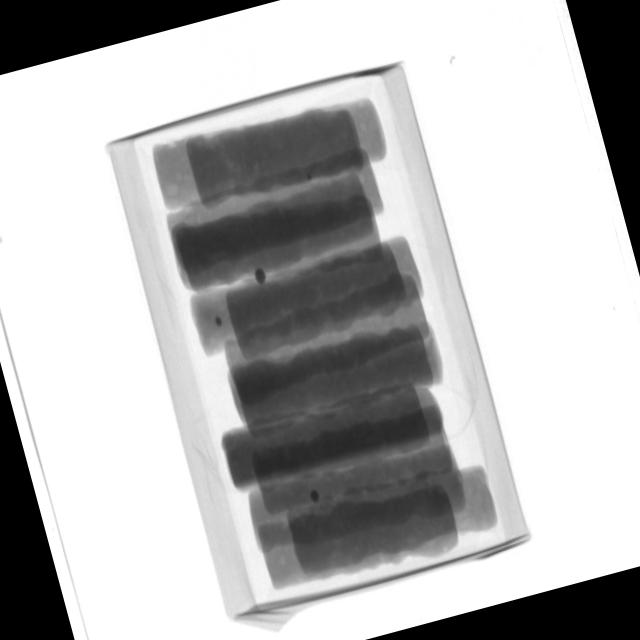ym: (254, 265, 270, 285), (310, 489, 322, 504), (215, 316, 223, 326), (308, 173, 315, 180)
